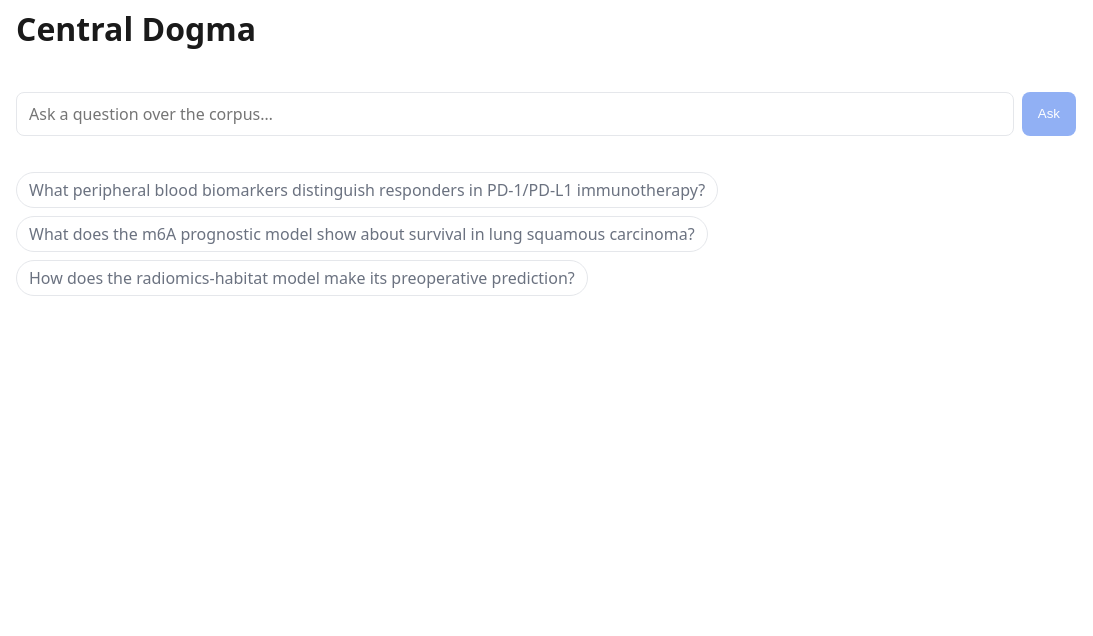
Test: Page › renders the answer and evidence panel on success
Type "what does the figure show about dose" into the field labelled "question" at (515, 114), box top-left (16, 92), bottom-right (1014, 136)
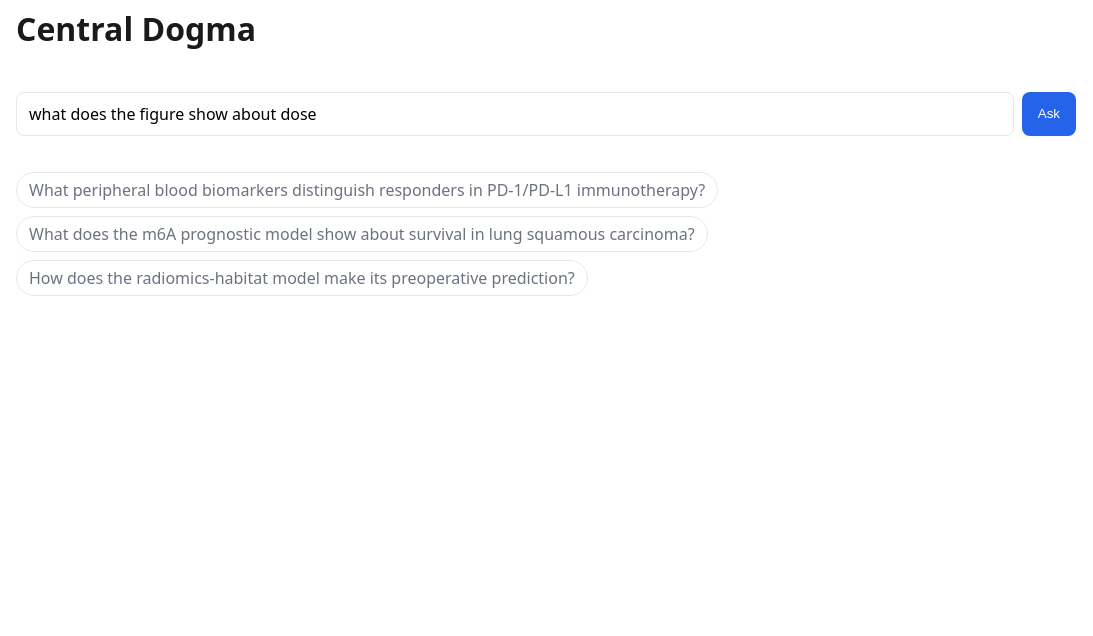
Click the button "Ask" at (1049, 114), box top-left (1022, 92), bottom-right (1076, 136)
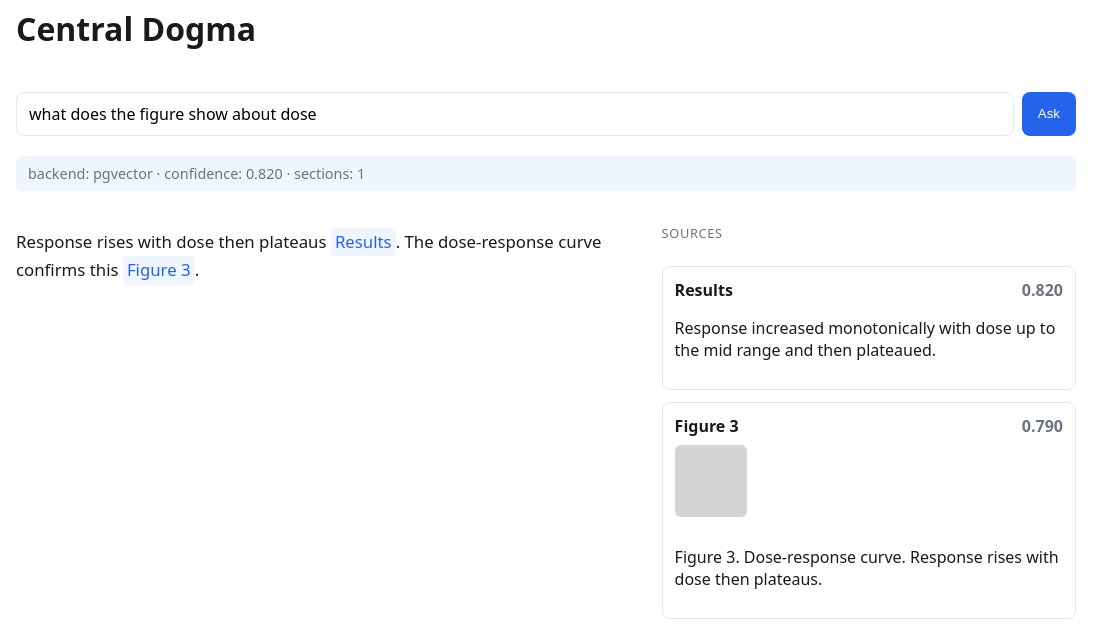
Now the button "Results" is shown, box top-left (331, 228), bottom-right (396, 256)
Now the element named "evidence" is shown, box top-left (662, 211), bottom-right (1076, 620)
